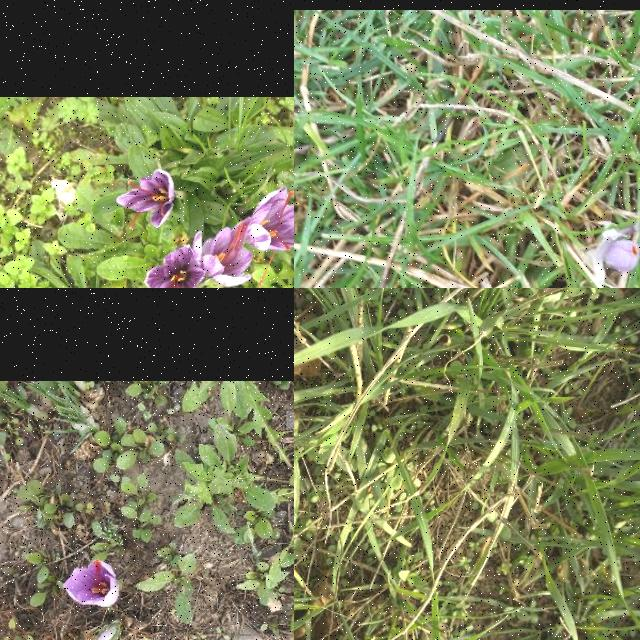flower: (245, 185, 294, 285), (192, 218, 252, 286), (116, 170, 178, 228), (64, 558, 120, 608), (144, 246, 206, 288), (605, 240, 639, 272)
